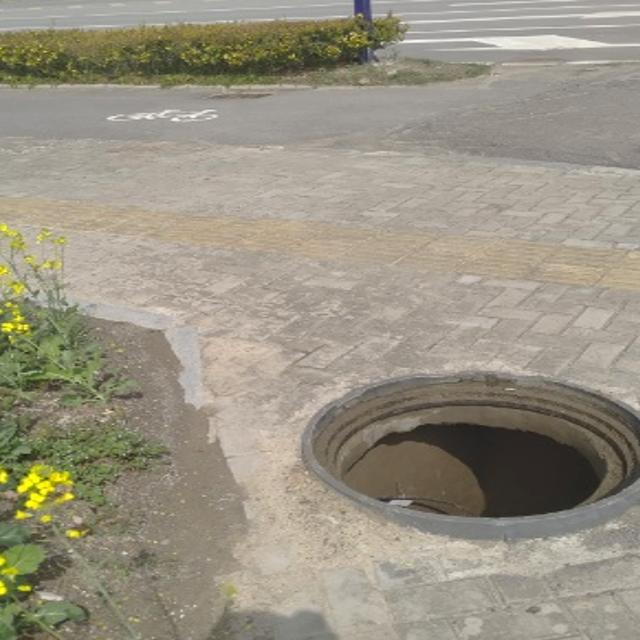lose: (303, 370, 640, 541)
